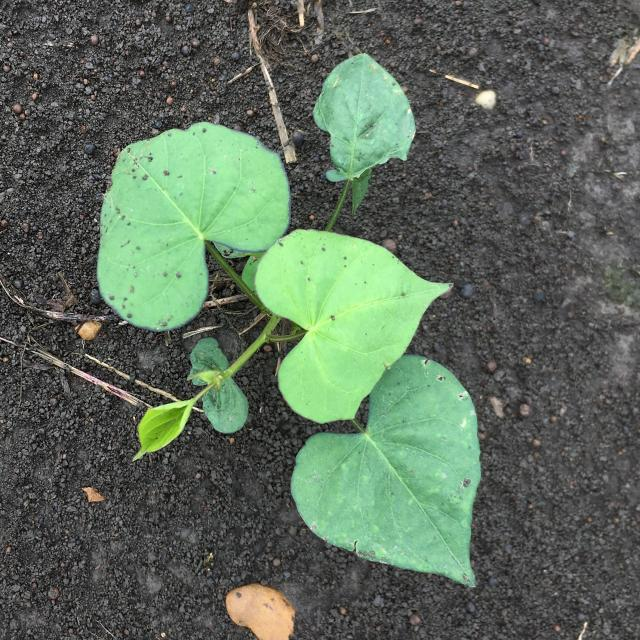MorningGlory: (97, 52, 482, 588)
